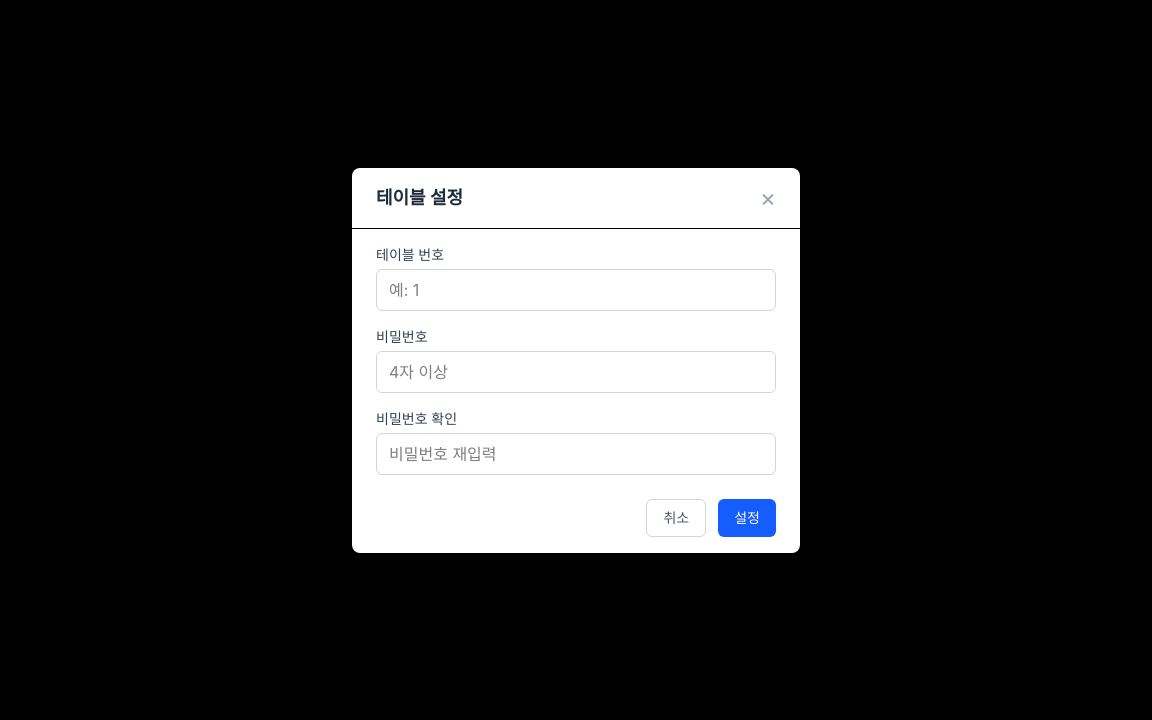
it: TableSetupForm › 비밀번호 4자 미만 시 에러 메시지를 표시한다
The image size is (1152, 720).
Type "1" into the number field with test id "table-setup-number-input" at (576, 290), box x1=376 y1=268 x2=776 y2=310
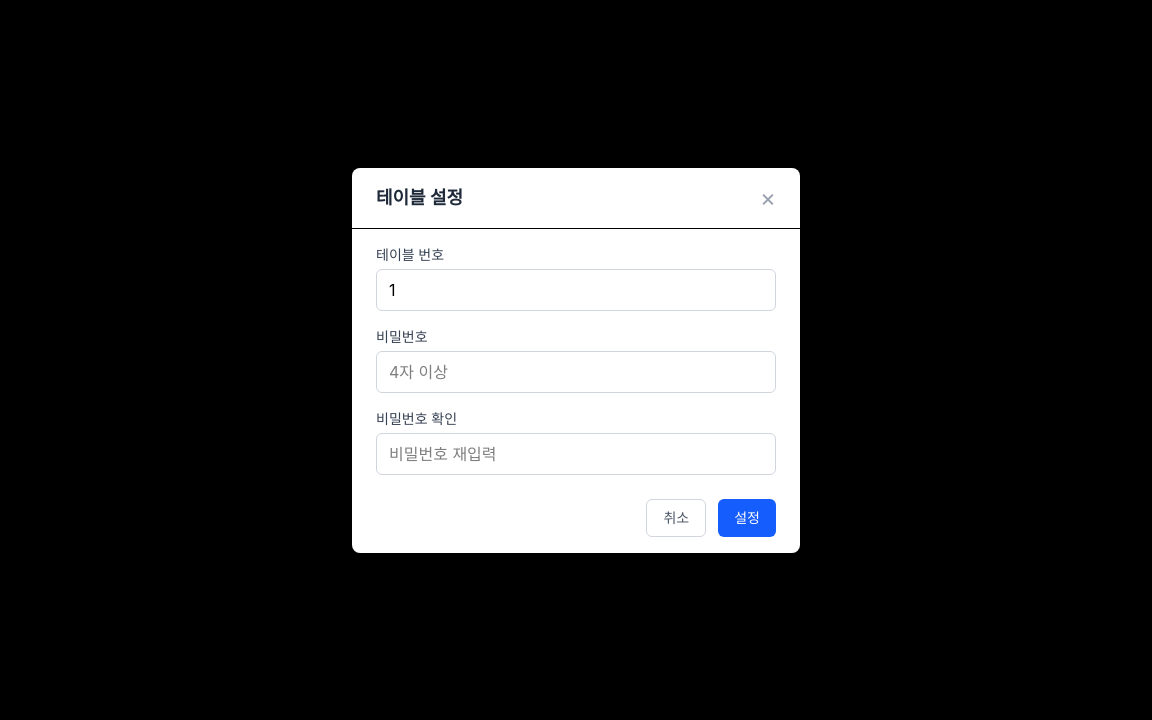
Type "12" into the password field with test id "table-setup-password-input" at (576, 372), box x1=376 y1=350 x2=776 y2=392
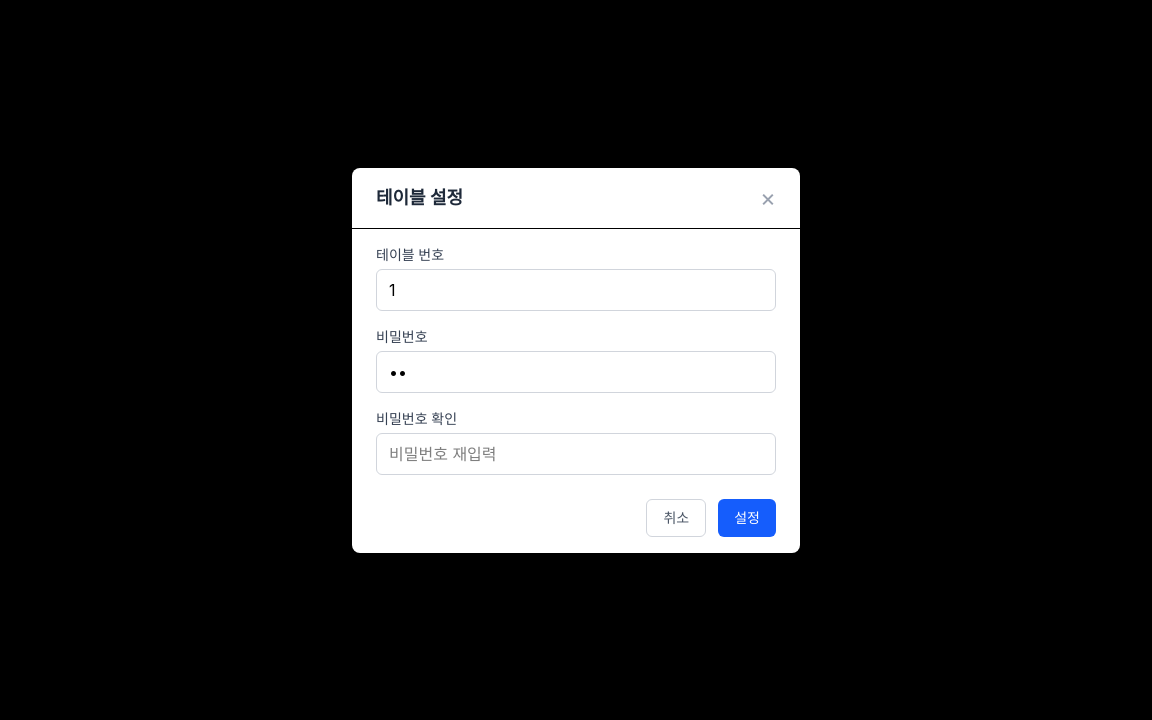
Type "12" into the password field with test id "table-setup-password-confirm-input" at (576, 454), box x1=376 y1=432 x2=776 y2=474
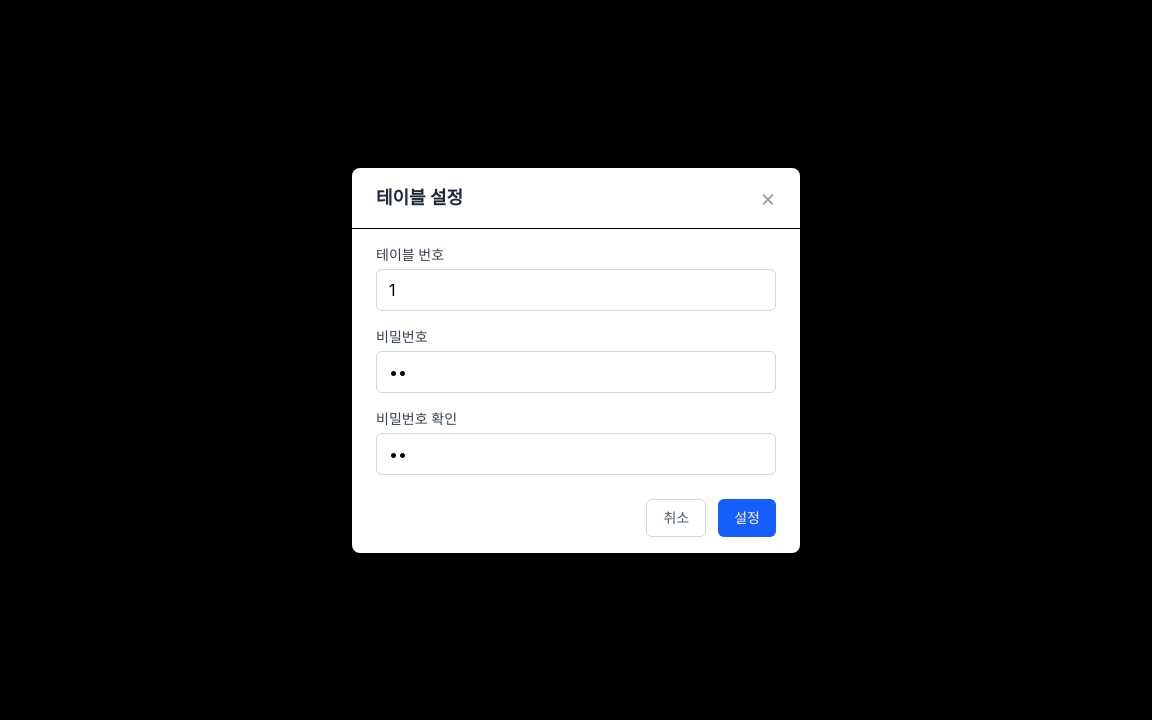
Submit the form with test id "table-setup-form", box x1=352 y1=228 x2=800 y2=552
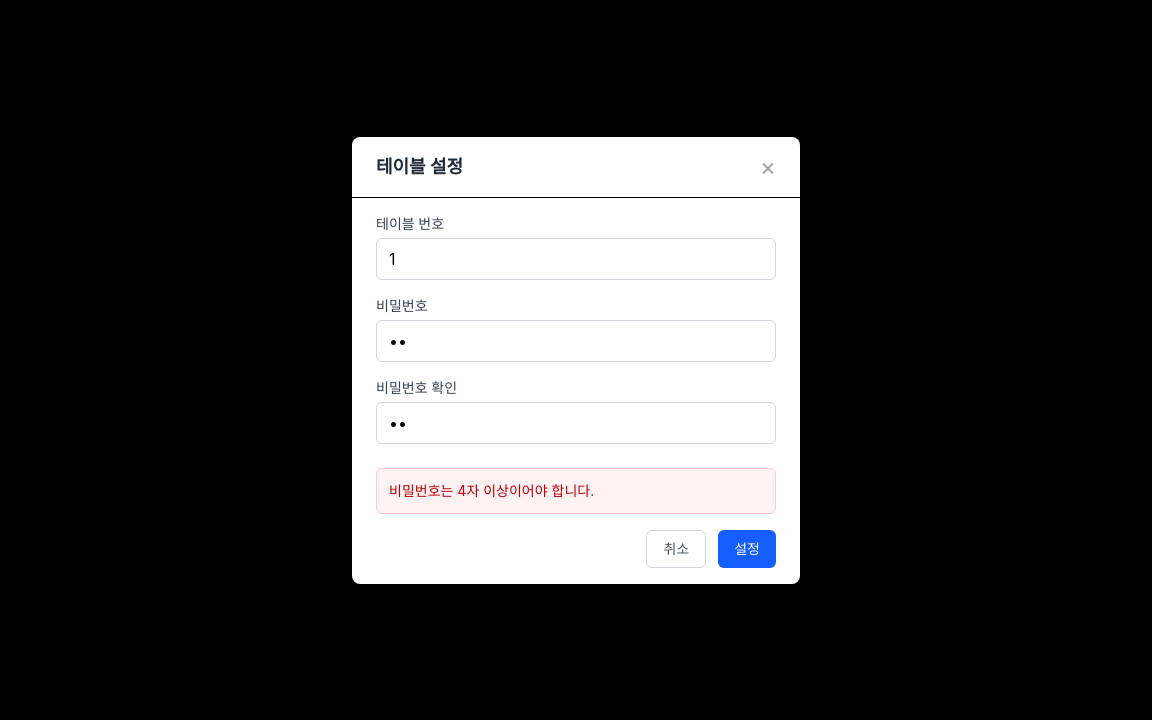
expect the message with test id "table-setup-error-message" shows "4자 이상": met, box x1=389 y1=482 x2=594 y2=498
